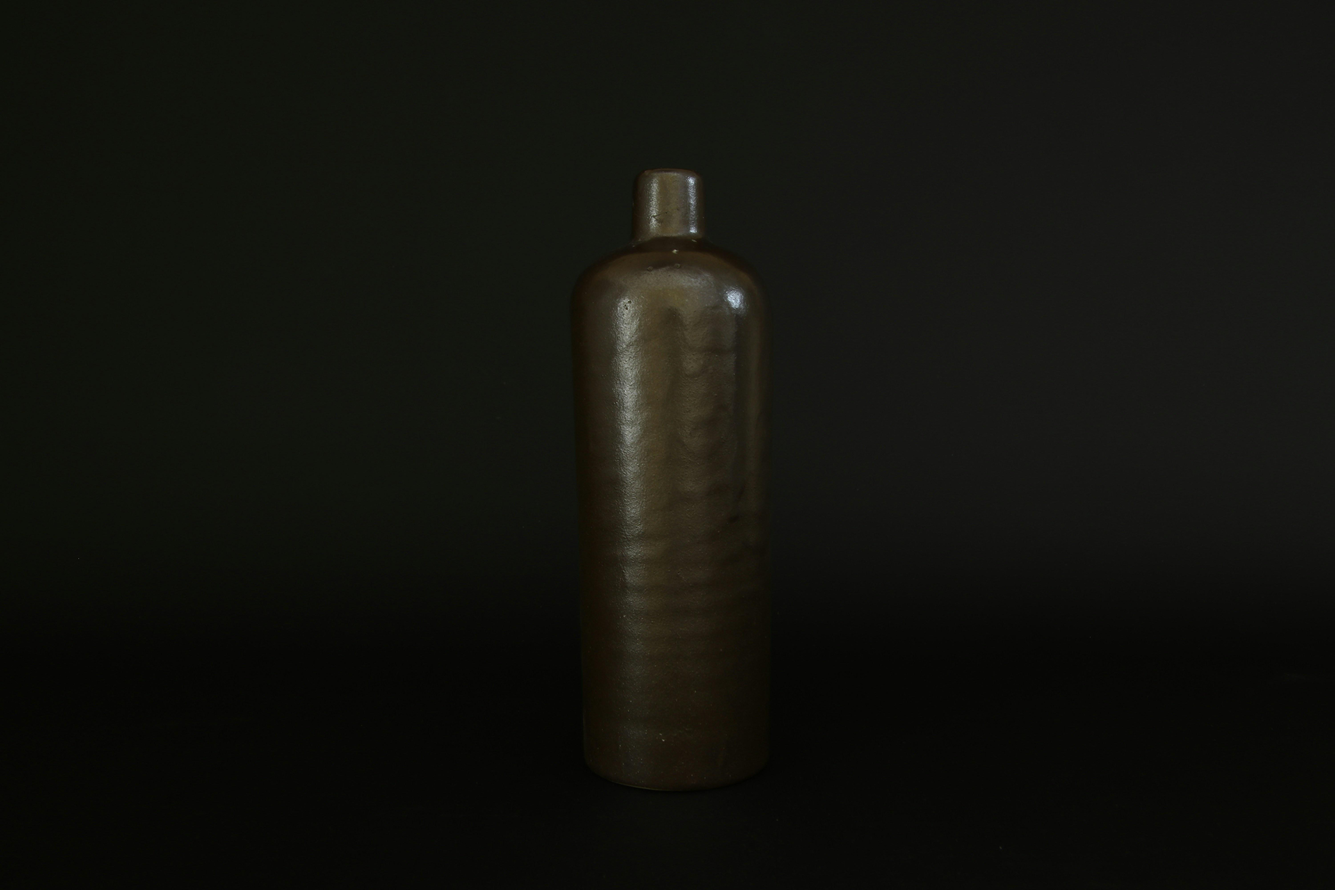Bottle-Detection: (498, 102, 830, 834)
